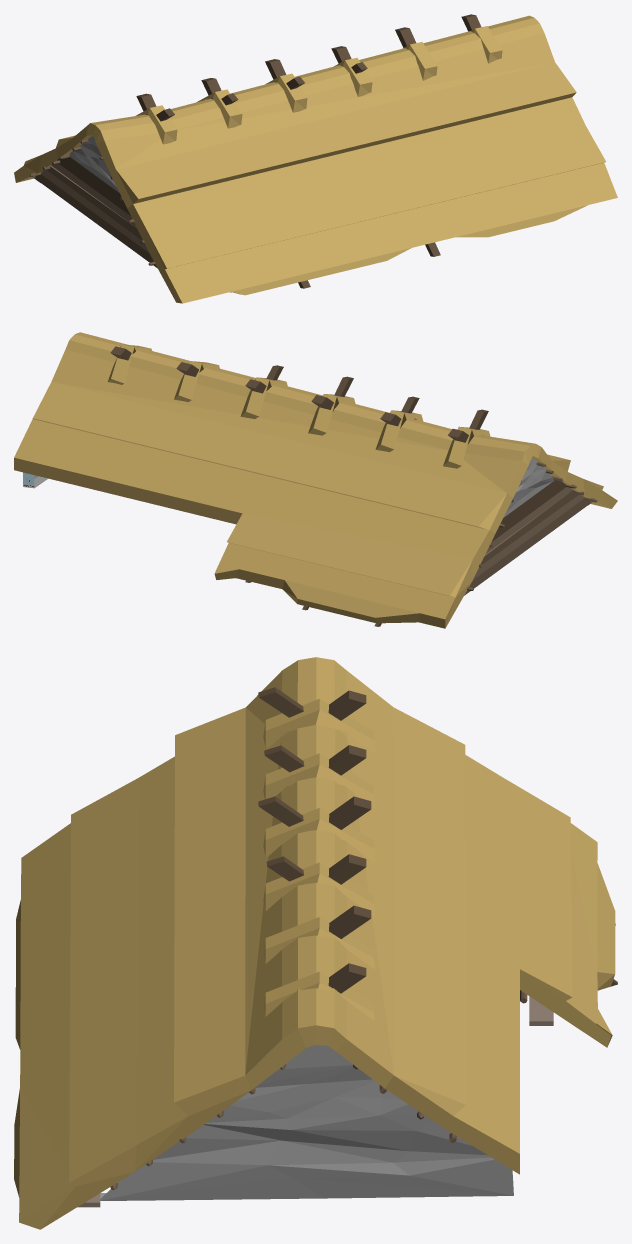
The model's file is EA03_Village_Hut_Roof_Cut_01a.fbx.
The picture shows the model from 3 angles, top to bottom: view 1: azimuth 30°, elevation 25°; view 2: azimuth 150°, elevation 25°; view 3: azimuth 270°, elevation 25°; orthographic projection. The views are drawn at different scales.
Visible parts, largest first — view 1: EA03_Village_Hut_Roof_Cut_01a_LOD0; view 2: EA03_Village_Hut_Roof_Cut_01a_LOD0; view 3: EA03_Village_Hut_Roof_Cut_01a_LOD0.
Part boxes in pixels (<box>): EA03_Village_Hut_Roof_Cut_01a_LOD0: <box>14,14,617,303</box>; EA03_Village_Hut_Roof_Cut_01a_LOD0: <box>14,332,617,628</box>; EA03_Village_Hut_Roof_Cut_01a_LOD0: <box>14,657,617,1229</box>.
Size of what is drawn, in the model's own units: 16.53 by 5.05 by 11.3.
